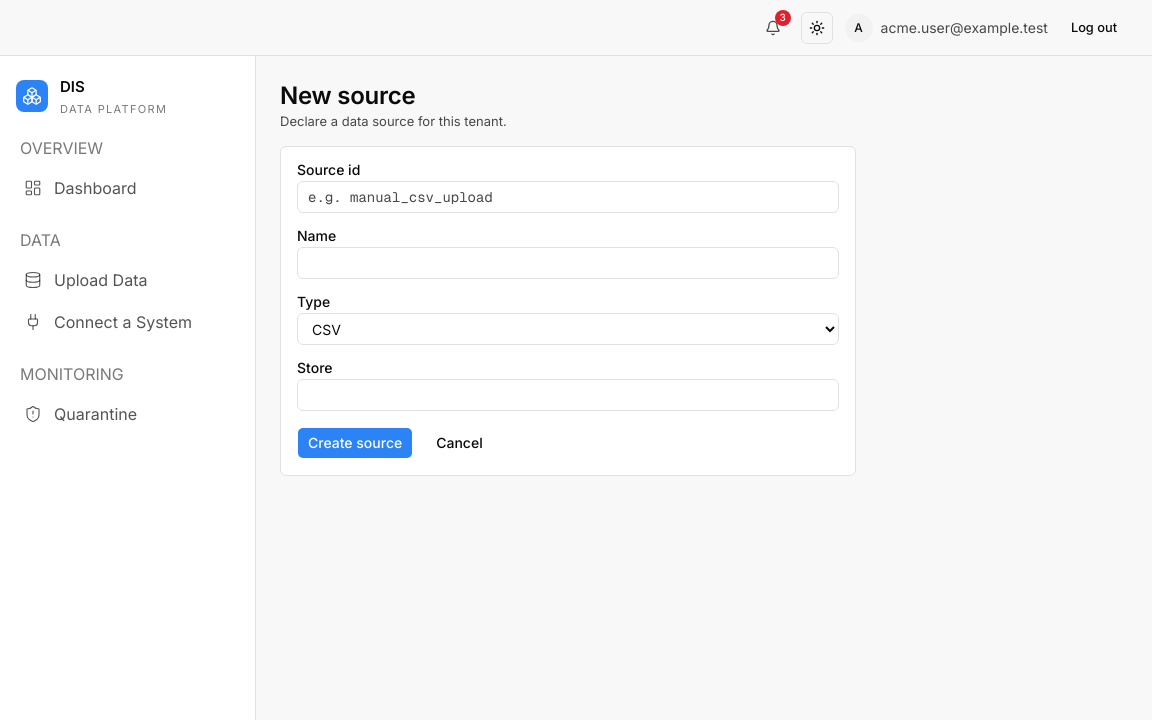
Test: SourceCreate › requires a source id
Expected: the heading "New source" is shown, [280,81,416,110]
Step 1. Click the button "Create source" → [355, 443], box [297,427,413,459]
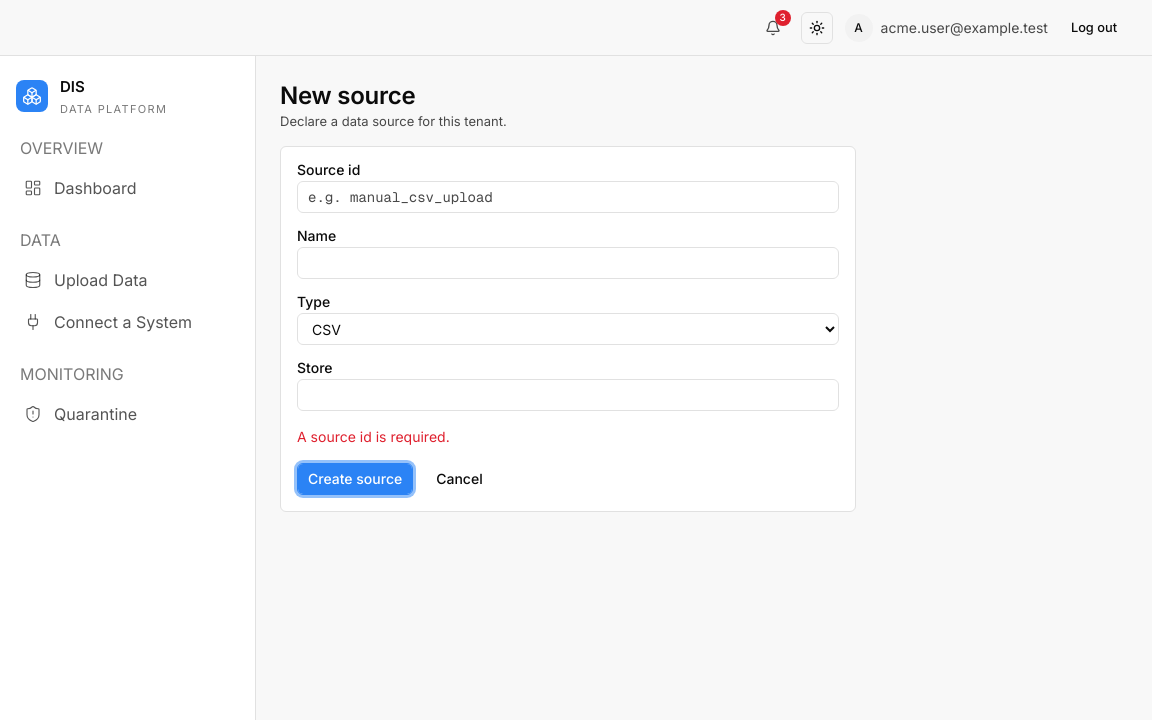
Expected: the heading "New source" is shown, [280,81,416,110]
Expected: the message shows "source id is required", [297,428,450,445]
